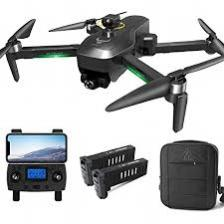drone: (3, 0, 224, 128)
